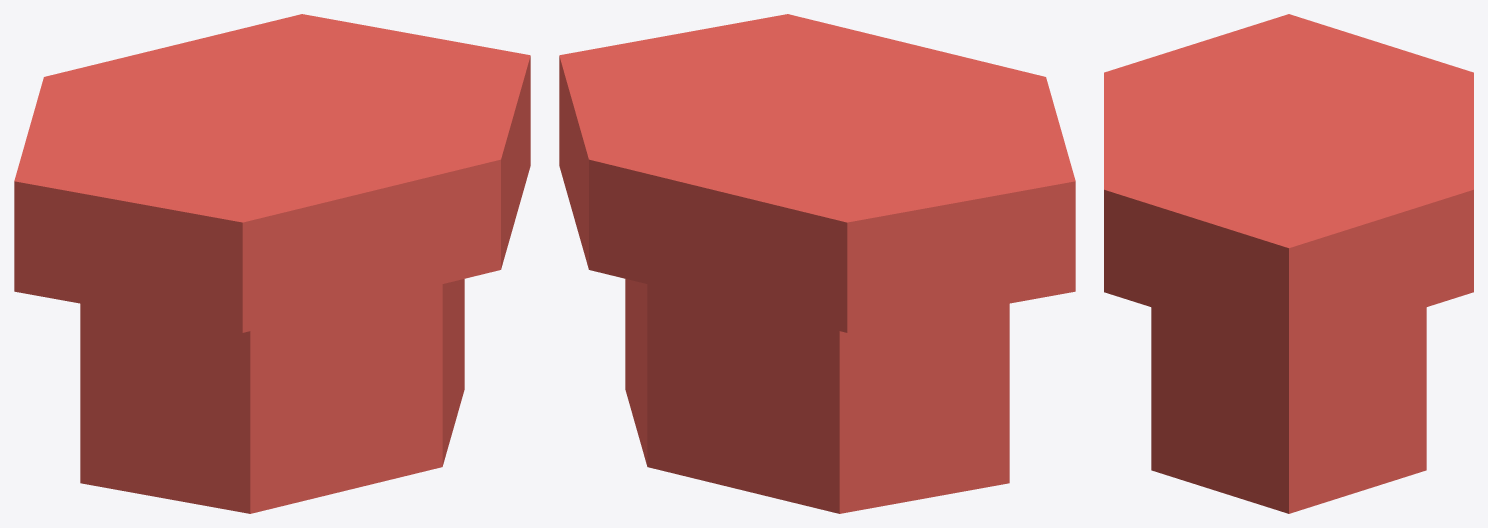
Rendered from Toothpaste_Cap.fbx.
3 renders of one model, left to right at view 1: azimuth 30°, elevation 25°; view 2: azimuth 150°, elevation 25°; view 3: azimuth 270°, elevation 25°, orthographic. The views are drawn at different scales.
Visible parts, largest first — view 1: Toothpaste_Cap; view 2: Toothpaste_Cap; view 3: Toothpaste_Cap.
Boxes of the visible parts, x1,y1,x2,y2 form: Toothpaste_Cap: [14, 14, 530, 513]; Toothpaste_Cap: [559, 14, 1075, 513]; Toothpaste_Cap: [1104, 14, 1473, 513].
Size of the model in its own units: 11.14 by 6.56 by 7.43.
Materials: 1 (1 with a texture image).
